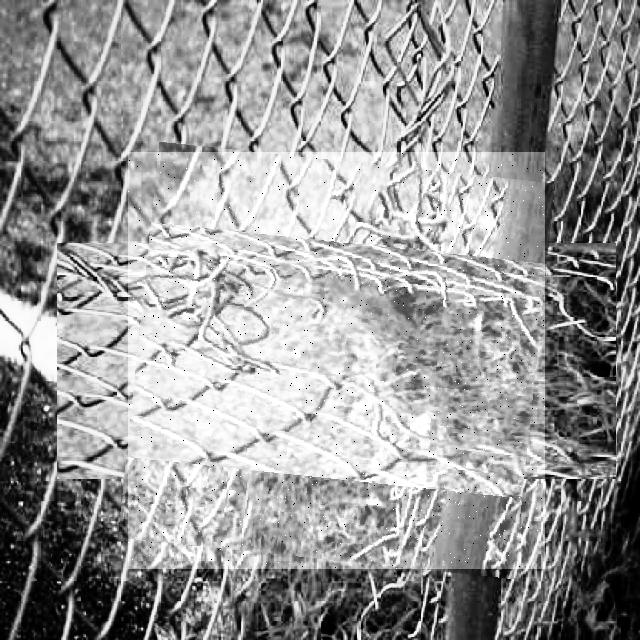anomaly-fence: (128, 152, 545, 569)
